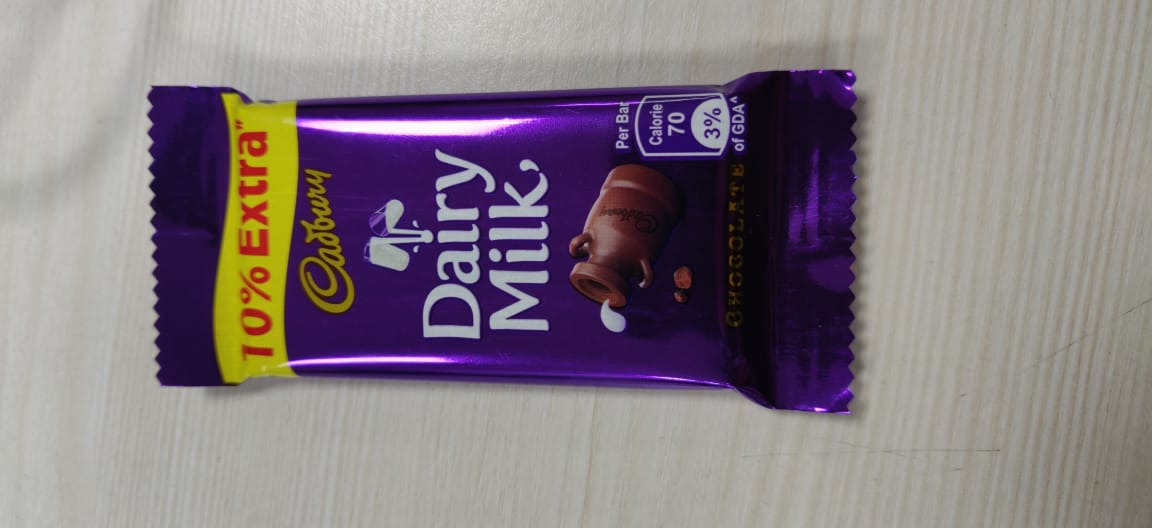dairy milk: (134, 62, 875, 424)
